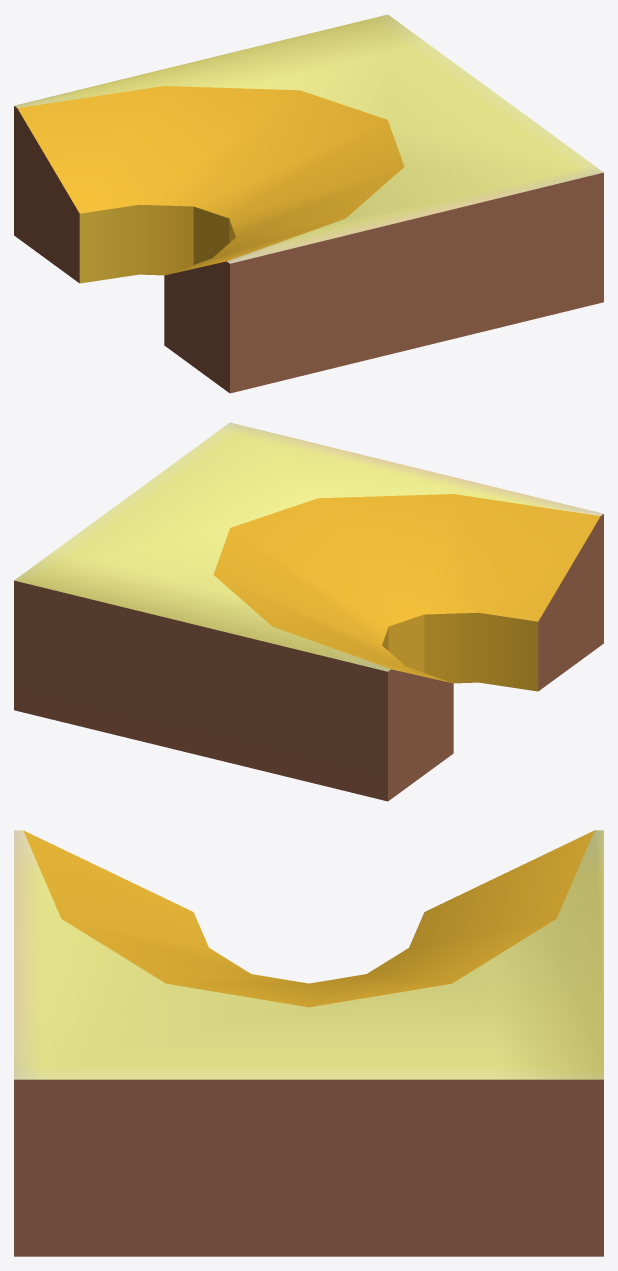
The model's file is Shore.SmallHor.B.Desert.glb.
The picture shows the model from 3 angles, top to bottom: view 1: azimuth 30°, elevation 25°; view 2: azimuth 150°, elevation 25°; view 3: azimuth 270°, elevation 25°; orthographic projection. The views are drawn at different scales.
Parts seen in each view (by area): view 1: Shore.SmallHor.B.Desert; view 2: Shore.SmallHor.B.Desert; view 3: Shore.SmallHor.B.Desert.
Boxes of the visible parts, x1=… form: Shore.SmallHor.B.Desert: x1=14, y1=14, x2=603, y2=393; Shore.SmallHor.B.Desert: x1=14, y1=422, x2=603, y2=801; Shore.SmallHor.B.Desert: x1=14, y1=830, x2=603, y2=1256.
Size of the model in its own units: 3 by 0.9943 by 3.
Materials: 1 (1 with a texture image).
